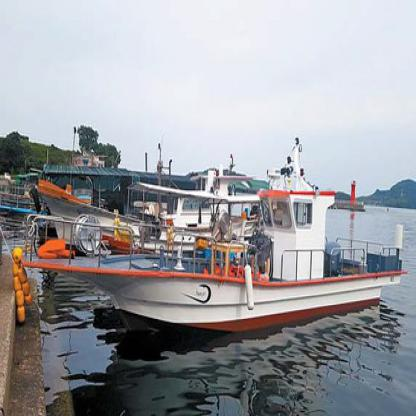fish-b: (13, 134, 412, 342)
